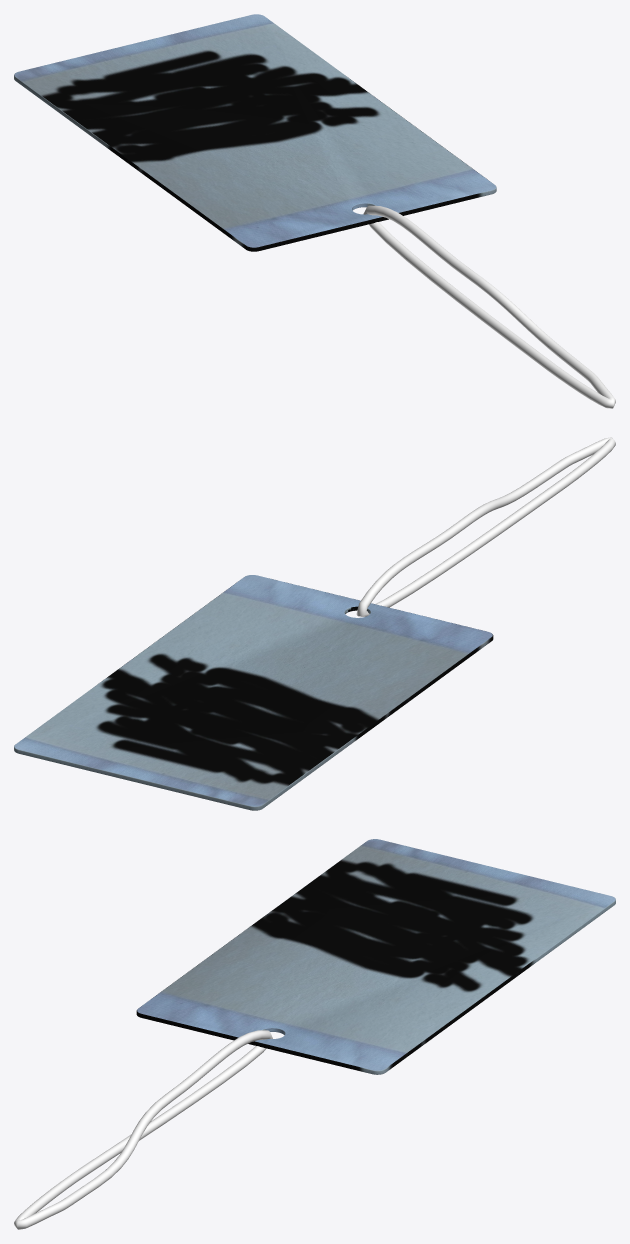
File: ID_card.glb
3 renders of one model, top to bottom at view 1: azimuth 30°, elevation 25°; view 2: azimuth 150°, elevation 25°; view 3: azimuth 330°, elevation 25°, orthographic.
Parts seen in each view (by area): view 1: Cube.001, BezierCurve; view 2: Cube.001, BezierCurve; view 3: Cube.001, BezierCurve.
Boxes of the visible parts, bbox=[...] form: Cube.001: bbox=[14, 14, 496, 251]; BezierCurve: bbox=[363, 205, 615, 408]; Cube.001: bbox=[14, 575, 493, 810]; BezierCurve: bbox=[356, 437, 615, 616]; Cube.001: bbox=[136, 839, 615, 1074]; BezierCurve: bbox=[14, 1030, 272, 1229].
Bounding box in the file's own units: 0.1283 × 0.0181 × 0.4278.
3 materials, 2 textured.
